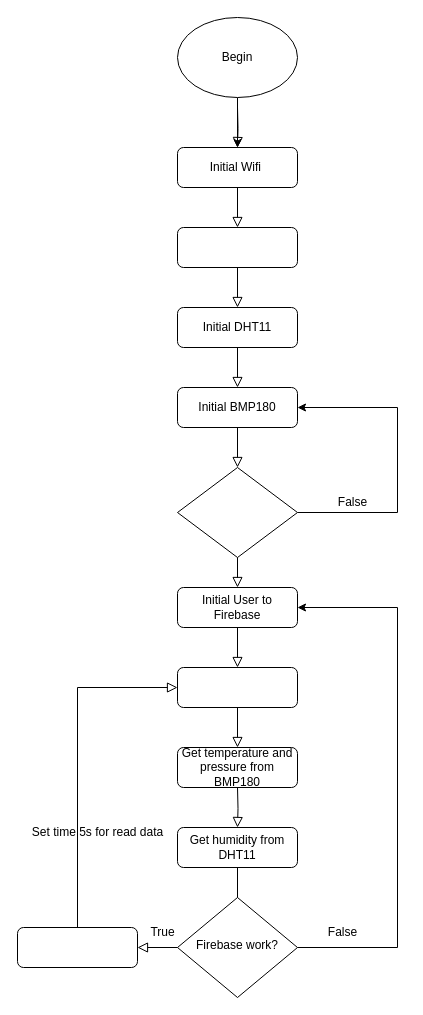
Image size: 423x1015. Some labels were removed from this diagram. The box of each missing label's shape, as (x1, y1, x2, y2) in pixels:
BMP180 work?: (176, 466, 298, 558)
Get Time from NTPClient: (176, 666, 298, 708)
Push data from ESP8266 to Firebase: (16, 926, 138, 968)
Start Time: (176, 226, 298, 268)
